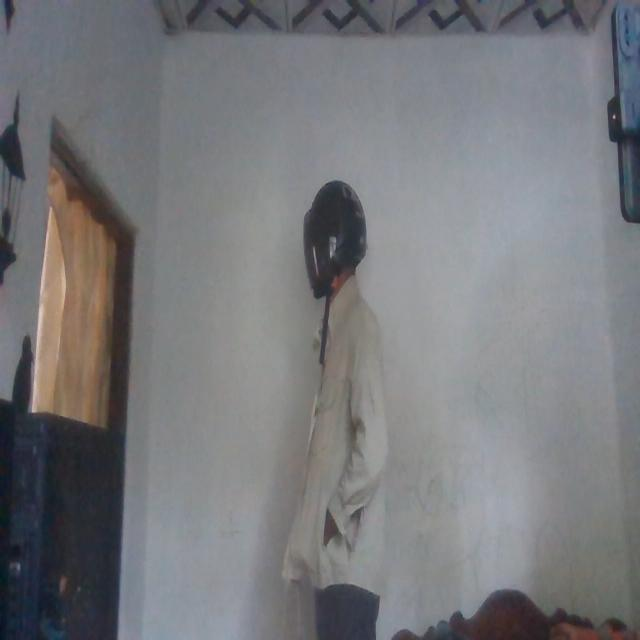Helmet_Wearer: (296, 186, 372, 294)
Jacket_Wearer: (287, 276, 398, 602)
Person: (282, 166, 402, 640)
